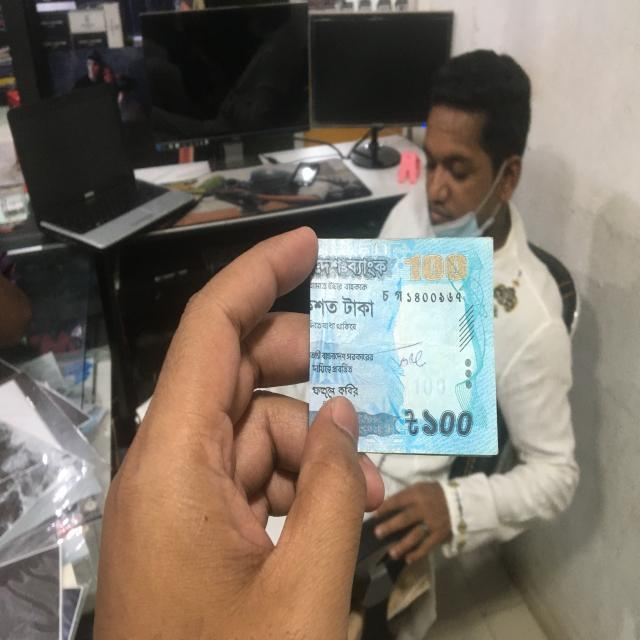Taka: (307, 233, 499, 456)
